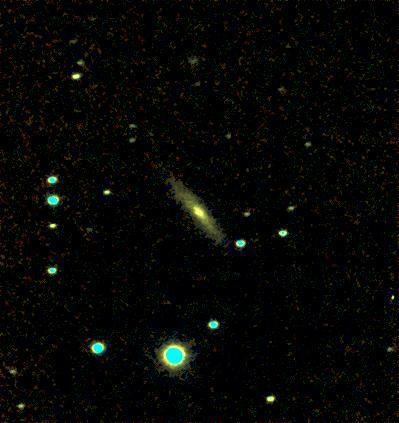star: (375, 282, 399, 312)
